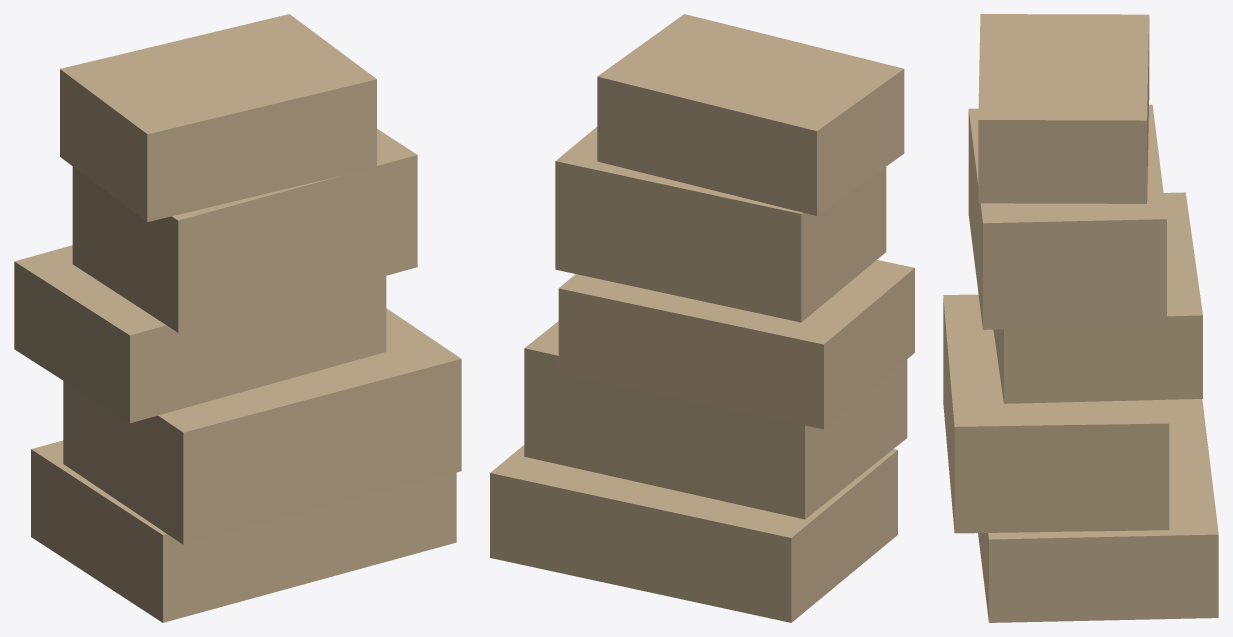
File: cardboard_stack_02.glb
The picture shows the model from 3 angles, left to right: view 1: azimuth 30°, elevation 25°; view 2: azimuth 150°, elevation 25°; view 3: azimuth 270°, elevation 25°; orthographic projection. The views are drawn at different scales.
Visible parts, largest first — view 1: box1, box4, box3, box2, box0; view 2: box4, box0, box2, box3, box1; view 3: box1, box4, box0, box3, box2.
Boxes of the visible parts, x1,y1,x2,y2 form: box1: [63, 308, 461, 544]; box4: [60, 14, 376, 221]; box3: [72, 129, 417, 332]; box2: [14, 245, 386, 423]; box0: [31, 440, 456, 622]; box4: [597, 14, 904, 215]; box0: [490, 445, 897, 622]; box2: [558, 260, 914, 429]; box3: [555, 127, 886, 322]; box1: [524, 321, 907, 519]; box1: [943, 294, 1169, 533]; box4: [978, 14, 1149, 203]; box0: [978, 399, 1218, 622]; box3: [968, 104, 1166, 329]; box2: [993, 192, 1202, 403].
Size of the model in its own units: 0.7264 by 1 by 0.5389.
